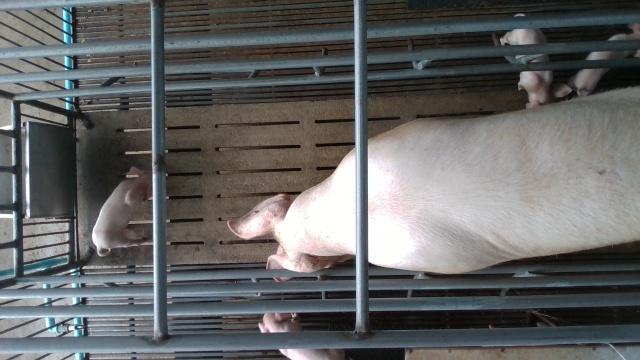piglet: (500, 13, 572, 110), (91, 167, 152, 257), (566, 24, 640, 96), (259, 311, 353, 360)
sow-stand: (227, 85, 640, 281)
